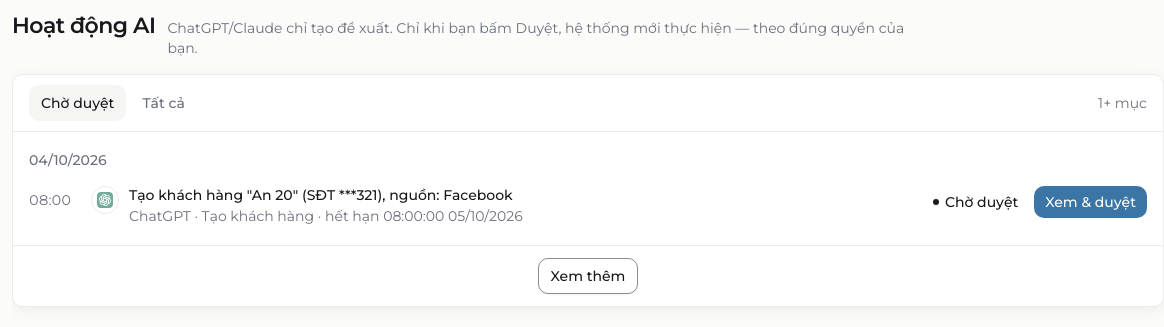
Test case: <AiActionsScreen> › có trang sau ⇒ nút Xem thêm gọi fetchNextPage với cursor
The width and height of the screenshot is (1164, 327).
Click the button "Xem thêm".
click(588, 276)  # box [538,258,638,294]
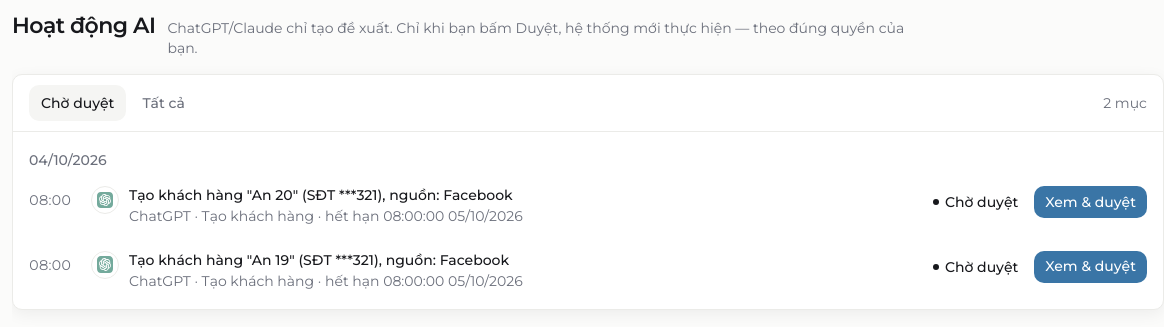
Expected: the number of list items with test id "ai-action-card" is 2, [13,174,1163,238]; [13,238,1163,303]
